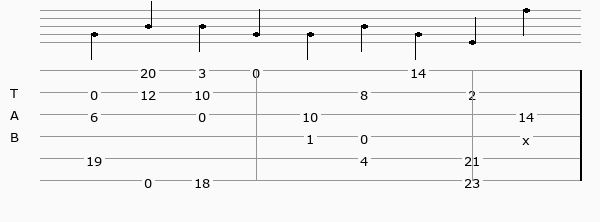0: (90, 86, 102, 99), (144, 174, 156, 187), (198, 108, 210, 121), (252, 64, 264, 77), (360, 130, 372, 143)
1: (306, 130, 318, 143)
10: (194, 86, 214, 99), (302, 108, 322, 121)
12: (140, 86, 160, 99)
14: (410, 64, 430, 77), (518, 108, 538, 121)
18: (194, 174, 214, 187)
19: (86, 152, 106, 165)
2: (468, 86, 480, 99)
20: (140, 64, 160, 77)
21: (464, 152, 484, 165)
23: (464, 174, 484, 187)
3: (198, 64, 210, 77)
4: (360, 152, 372, 165)
6: (90, 108, 102, 121)
8: (360, 86, 372, 99)
x: (522, 131, 534, 142)
